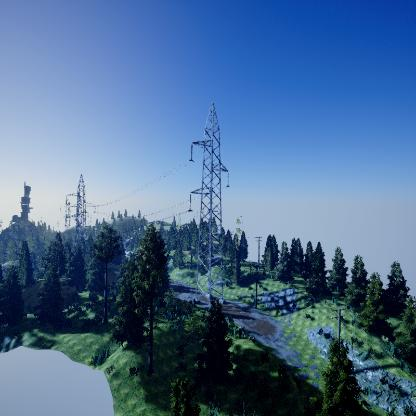tower: (186, 96, 235, 310)
